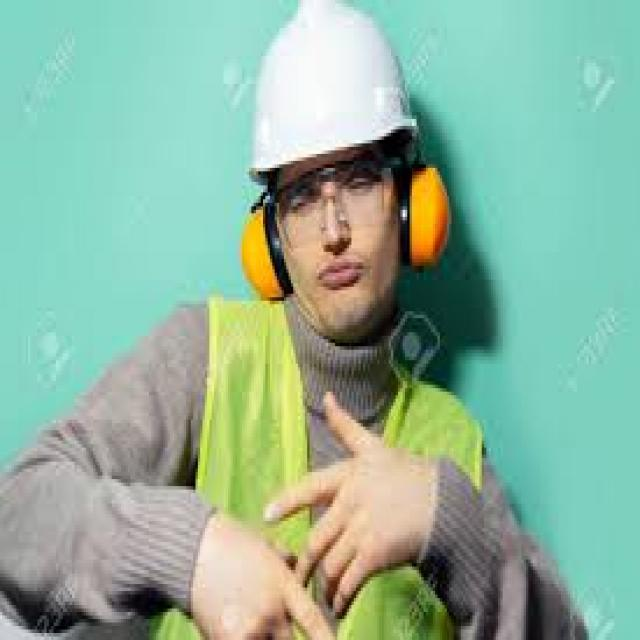Reflective-Jacket: (170, 290, 493, 633)
Safety-Helmet: (242, 7, 424, 185)
